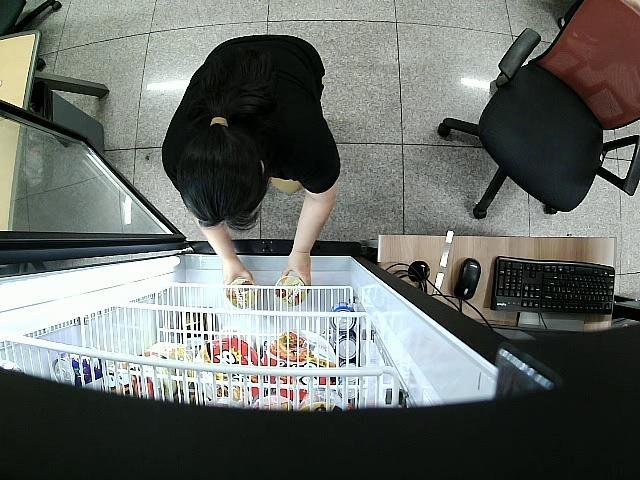04_chapagetti_S: (274, 276, 306, 306), (228, 278, 258, 309)
